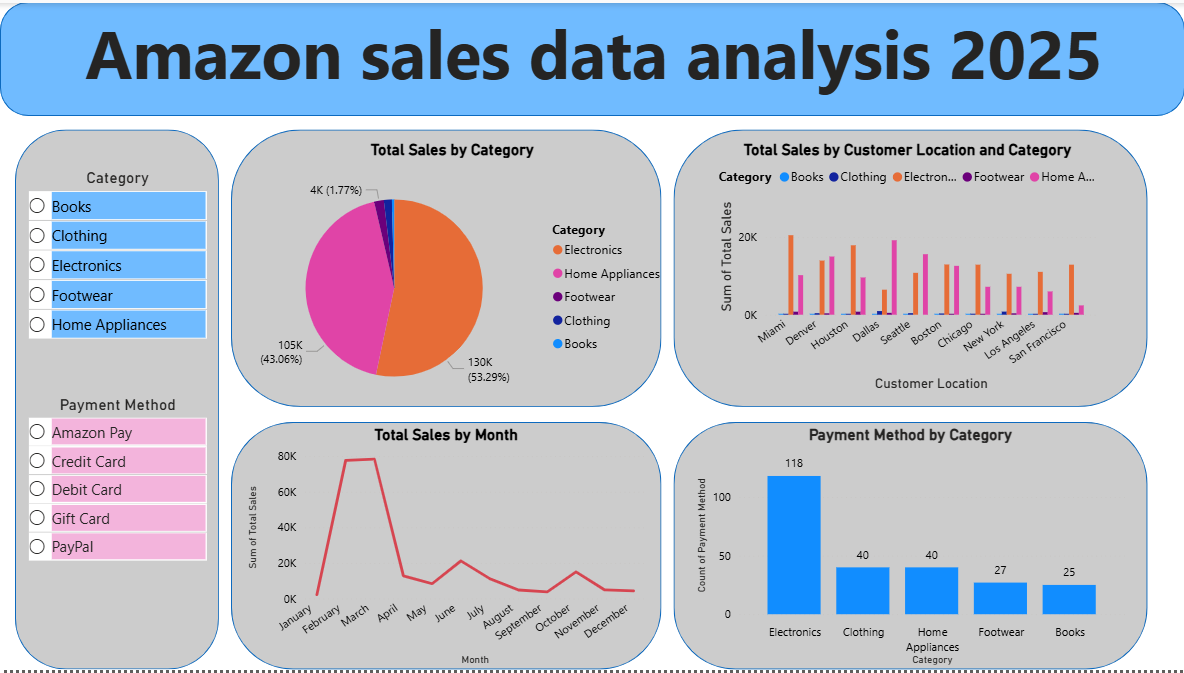

Layout of this report page (visuals, bound fields, positions):
{"tool":"powerbi","page":{"name":"Page 1","canvas":[1280,720],"ordinal":0},"visuals":[{"type":"shape","box":[249.4,137.6,464.7,299.6],"z":0},{"type":"pieChart","title":"Total Sales by Category","fields":{"Category":["amazon_sales_data 2025.Category"],"Y":["Sum(amazon_sales_data 2025.Total Sales)"]},"box":[249.4,149,477.7,299.6],"z":1000},{"type":"shape","box":[0,0,1279.2,123.1],"z":2000},{"type":"textbox","box":[16.2,0,1250,123.1],"z":3000},{"type":"shape","box":[727,137.6,511.7,299.6],"z":4000},{"type":"lineClusteredColumnComboChart","title":"Total Sales by Customer Location and Category","fields":{"Category":["amazon_sales_data 2025.Customer Location"],"Y":["Sum(amazon_sales_data 2025.Total Sales)"],"Series":["amazon_sales_data 2025.Category"]},"box":[770.8,149,417.8,275.3],"z":5000},{"type":"shape","box":[727,453.4,511.7,267.2],"z":6000},{"type":"clusteredColumnChart","title":"Payment Method by Category","fields":{"Category":["amazon_sales_data 2025.Category"],"Y":["CountNonNull(amazon_sales_data 2025.Payment Method)"]},"box":[746.5,456.6,472.8,263.9],"z":7000},{"type":"shape","box":[249.4,453.4,464.7,267.2],"z":8000},{"type":"lineChart","title":"Total Sales by Month","fields":{"Category":["amazon_sales_data 2025.Date.Variation.Date Hierarchy.Month"],"Y":["Sum(amazon_sales_data 2025.Total Sales)"]},"box":[262.3,456.6,438.8,263.9],"z":8001},{"type":"shape","box":[16.2,137.6,220.2,582.9],"z":8002},{"type":"listSlicer","fields":{"Values":["amazon_sales_data 2025.Category"]},"box":[25.9,179.7,202.4,288.2],"z":8003},{"type":"listSlicer","fields":{"Values":["amazon_sales_data 2025.Payment Method"]},"box":[25.9,424.2,202.4,276.9],"z":8004}]}

Visuals, with their boxes in screenshot pixels (x1, y1, x2, y2), scaled from the page's 1280x720 canvas onto the 1184x673 screenshot:
shape: Rect(231, 129, 661, 409)
"Total Sales by Category" pieChart: Rect(231, 139, 673, 419)
shape: Rect(0, 0, 1183, 115)
textbox: Rect(15, 0, 1171, 115)
shape: Rect(672, 129, 1146, 409)
"Total Sales by Customer Location and Category" lineClusteredColumnComboChart: Rect(713, 139, 1099, 397)
shape: Rect(672, 424, 1146, 672)
"Payment Method by Category" clusteredColumnChart: Rect(691, 427, 1128, 672)
shape: Rect(231, 424, 661, 672)
"Total Sales by Month" lineChart: Rect(243, 427, 649, 672)
shape: Rect(15, 129, 219, 672)
listSlicer - amazon_sales_data 2025.Category: Rect(24, 168, 211, 437)
listSlicer - amazon_sales_data 2025.Payment Method: Rect(24, 397, 211, 655)
